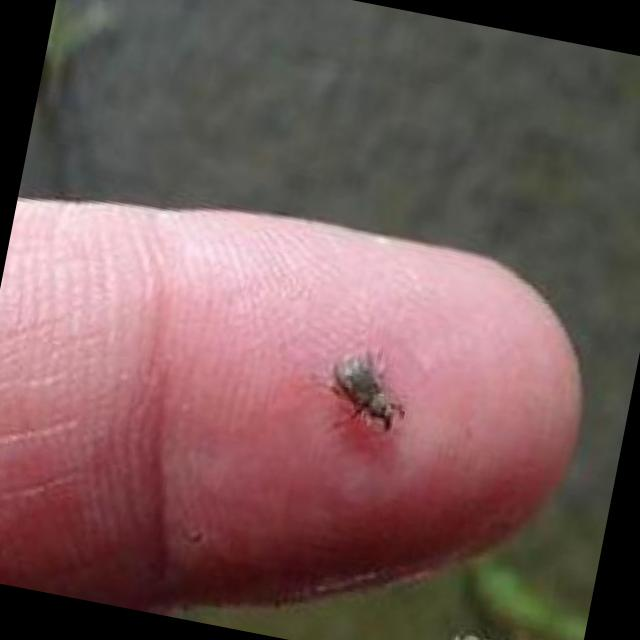rice-bug: (318, 340, 414, 438)
